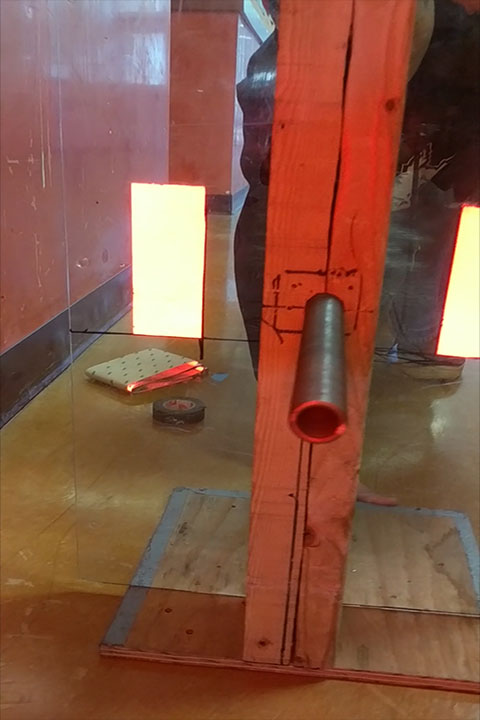gear: (130, 182, 206, 340), (434, 204, 480, 359)
